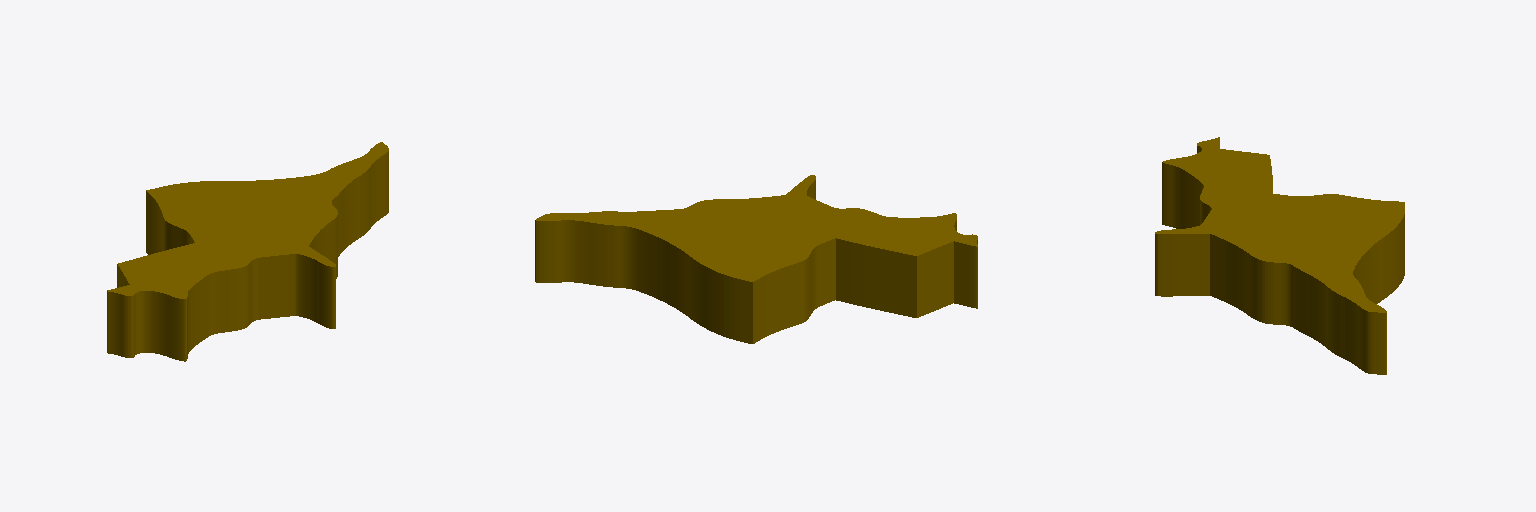
Rendered from North_America_04.obj.
3 renders of one model, left to right at view 1: azimuth 30°, elevation 25°; view 2: azimuth 150°, elevation 25°; view 3: azimuth 270°, elevation 25°, orthographic.
Visible parts, largest first — view 1: North_America_04_path4186; view 2: North_America_04_path4186; view 3: North_America_04_path4186.
Boxes of the visible parts, box(x1,y1,x2,y2) form: North_America_04_path4186: box(107, 142, 388, 361); North_America_04_path4186: box(535, 175, 977, 343); North_America_04_path4186: box(1155, 137, 1404, 374).
Bounding box in the file's own units: 0.6057 × 0.1 × 0.3662.